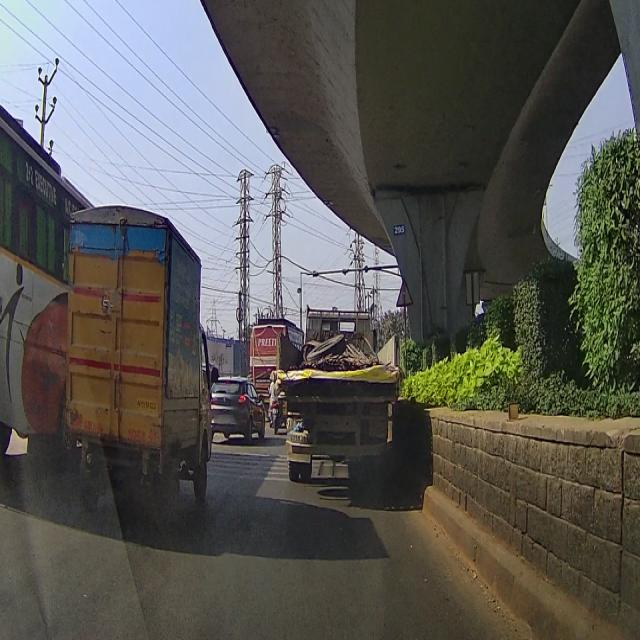gap-in-median: (394, 275, 414, 315)
